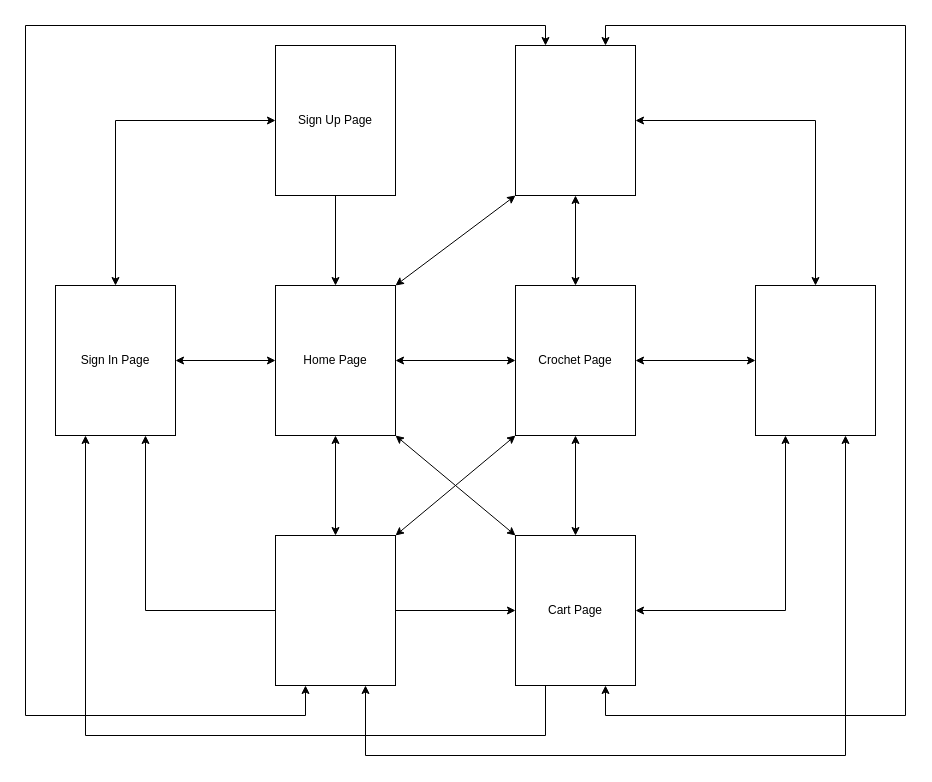
Some shapes in this 932 by 782 pixel diagram are drawn without their labels. The shapes that lost their labels are listed below. From the top down, each one's centre as x and y in pixels, then its label:
At point 575,120: "Knitting Page".
At point 815,360: "Contact Us".
At point 335,610: "About Us".
